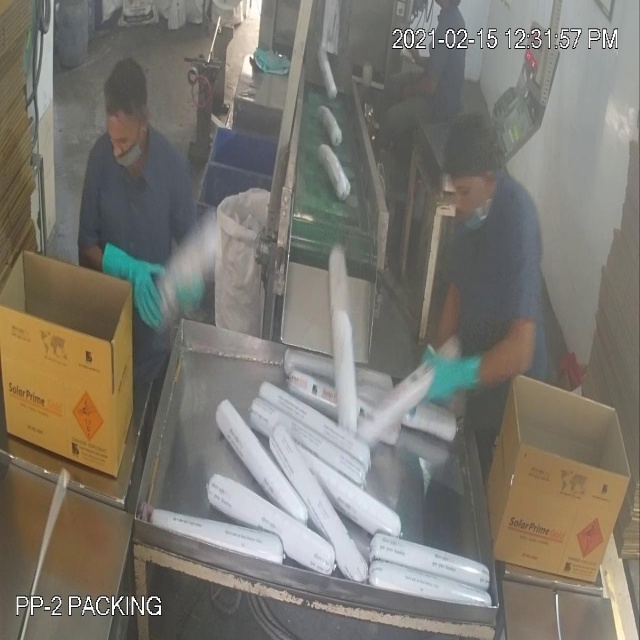Guantes: (100, 233, 173, 342), (413, 326, 490, 412)
